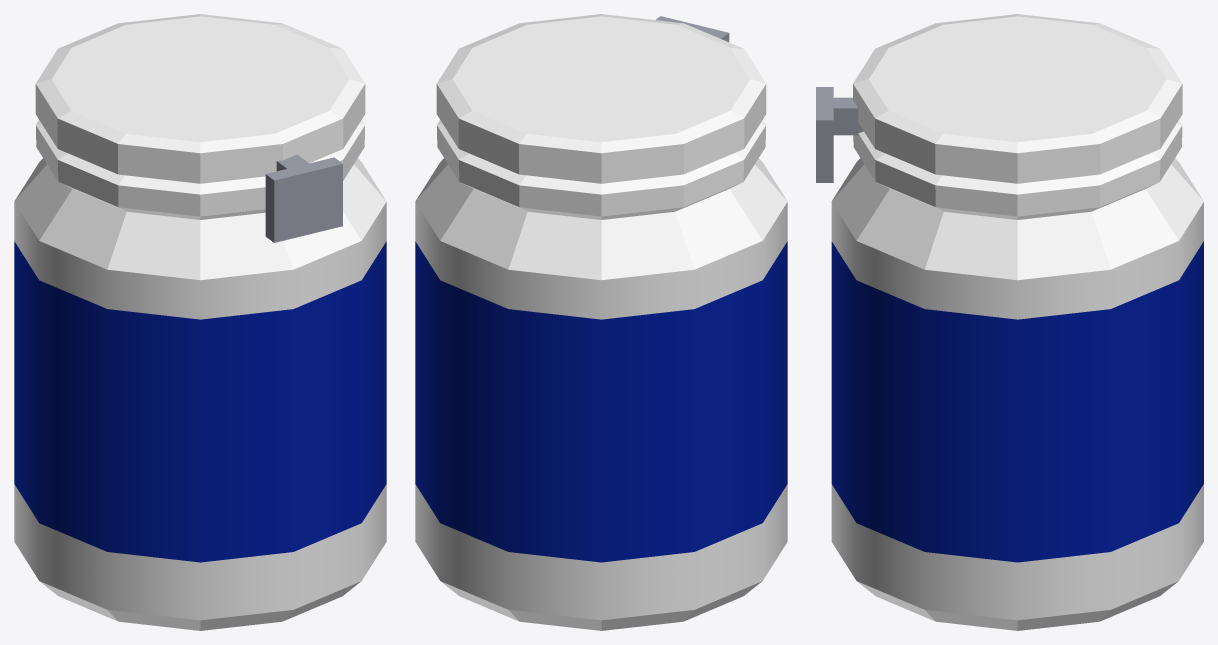
Rendered from SM_chewing_gums_03.fbx.
3 views of the same model, side by side, from view 1: azimuth 30°, elevation 25°; view 2: azimuth 150°, elevation 25°; view 3: azimuth 270°, elevation 25° (orthographic).
Parts seen in each view (by area): view 1: chewing_gums_03; view 2: chewing_gums_03; view 3: chewing_gums_03.
Boxes of the visible parts, x1,y1,x2,y2 form: chewing_gums_03: (14,14,386,630); chewing_gums_03: (415,14,787,630); chewing_gums_03: (816,14,1203,630).
Size of the model in its own units: 16.27 by 23.26 by 16.95.
